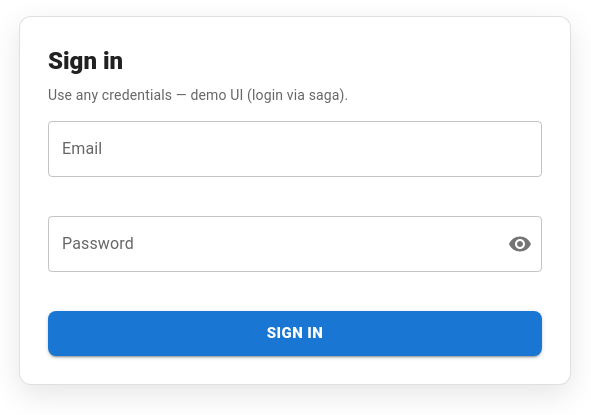
Scenario: LoginPage › should show "Please enter a valid email" after invalid email blur
The image size is (591, 415).
Type "bad" into the field labelled "Email" at x=295, y=149, box x1=48 y1=121 x2=542 y2=177
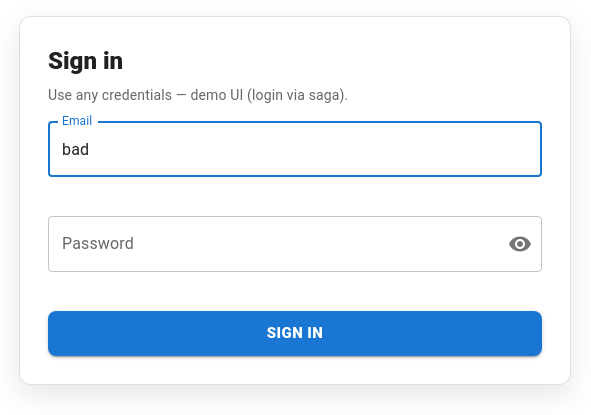
Press Tab
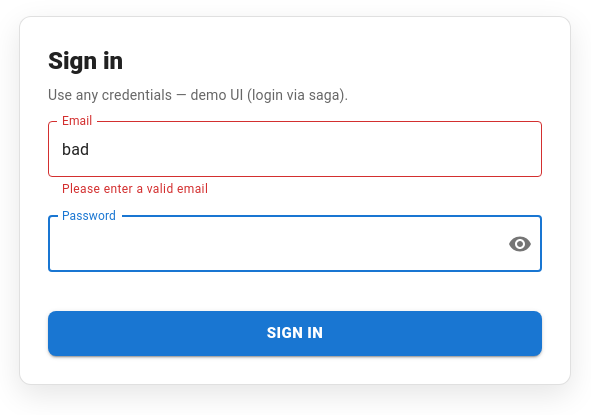
Now the text "Please enter a valid email" is shown, box x1=62 y1=182 x2=208 y2=196
